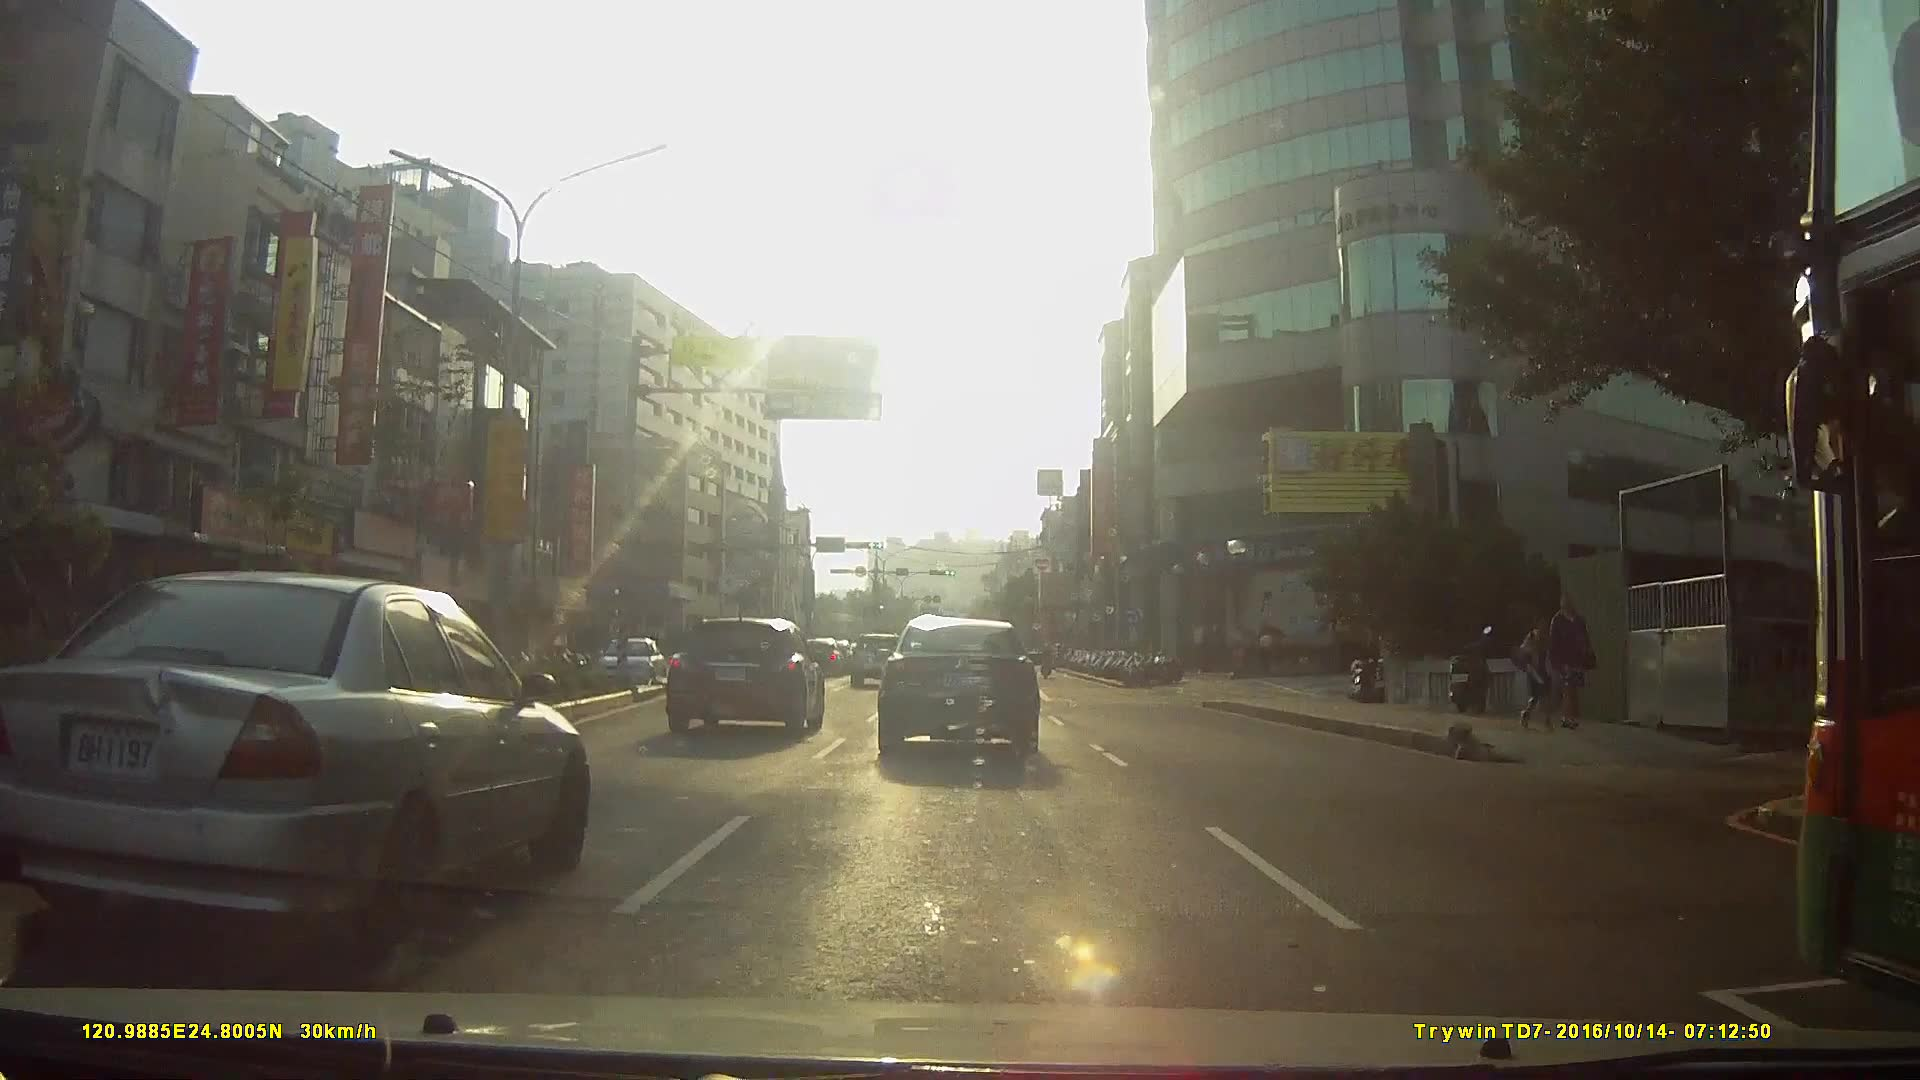pedestrian: (1539, 587, 1594, 728), (1514, 608, 1567, 730)
vehicle: (0, 567, 590, 953), (872, 613, 1038, 759), (663, 614, 825, 737), (594, 633, 667, 690), (845, 629, 905, 685)
